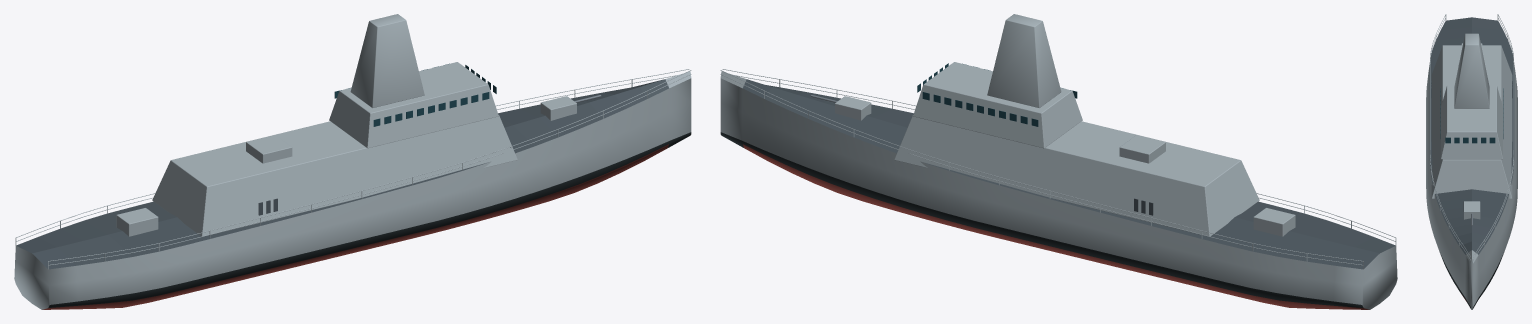
The model's file is deu_fsg_braunschweig.glb.
3 renders of one model, left to right at view 1: azimuth 30°, elevation 25°; view 2: azimuth 150°, elevation 25°; view 3: azimuth 270°, elevation 25°, orthographic. The views are drawn at different scales.
Parts seen in each view (by area): view 1: deu_fsg_braunschweig; view 2: deu_fsg_braunschweig; view 3: deu_fsg_braunschweig.
Boxes of the visible parts, x1,y1,x2,y2 form: deu_fsg_braunschweig: (14,14,691,309); deu_fsg_braunschweig: (720,14,1397,309); deu_fsg_braunschweig: (1426,14,1517,309).
Bounding box in the file's own units: 10 × 3.06 × 1.5.
